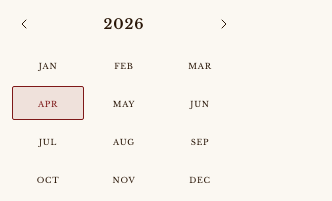
Scenario: ServicesCalendarMonthPicker › advances the displayed year when the forward stepper is clicked
Click the button named "next year" at [224, 24], box [212,12,236,36]
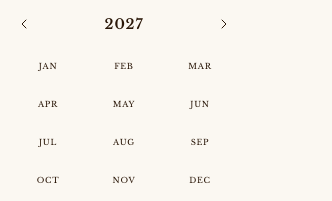
Expected: the text "2027" is shown, [105,14,143,34]
